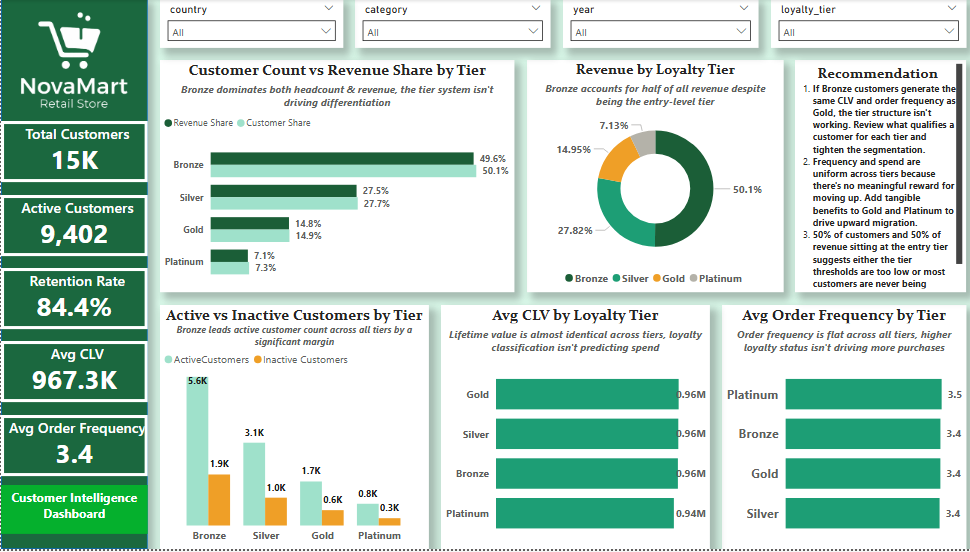

Layout of this report page (visuals, bound fields, positions):
{"tool":"powerbi","page":{"name":"Customer Intelligence","canvas":[1280,720],"ordinal":1},"visuals":[{"type":"shape","box":[0,0,192,720],"z":0},{"type":"donutChart","title":"Revenue by Loyalty Tier","fields":{"Y":["order items.Total Revenue"],"Category":["customers.loyalty_tier"]},"box":[688,80,336,304],"z":1000},{"type":"clusteredBarChart","title":"Customer Count vs Revenue Share by Tier","fields":{"Category":["customers.loyalty_tier"],"Y":["order items.Revenue Share","customers.Customer Share"]},"box":[208,80,464,304],"z":2000},{"type":"clusteredColumnChart","title":"Active vs Inactive Customers by Tier","fields":{"Category":["customers.loyalty_tier"],"Y":["customers.ActiveCustomers","customers.Inactive Customers"]},"box":[208,400,352,320],"z":3000},{"type":"clusteredBarChart","title":"Avg Order Frequency by Tier ","fields":{"Category":["customers.loyalty_tier"],"Y":["customers.Avg Order Frequency"]},"box":[944,400,320,320],"z":4000},{"type":"image","box":[0,0,192,160],"z":5000},{"type":"card","title":"Total Customers","fields":{"Values":["customers.Total Customer"]},"box":[0,160,192,80],"z":6000},{"type":"card","title":"Active Customers","fields":{"Values":["customers.Active Customers"]},"box":[0,256,192,80],"z":7000},{"type":"card","title":"Retention Rate","fields":{"Values":["customers.Retention Rate"]},"box":[0,352,192,80],"z":8000},{"type":"card","title":"Avg CLV","fields":{"Values":["customers.Avg CLV"]},"box":[0,448,192,80],"z":9000},{"type":"textbox","box":[0,636.1,192,64],"z":10000},{"type":"card","title":"Avg Order Frequency","fields":{"Values":["customers.Avg Order Frequency"]},"box":[0,544,192,80],"z":11000},{"type":"barChart","title":"Avg CLV by Loyalty Tier","fields":{"Category":["customers.loyalty_tier"],"Y":["customers.Avg CLV"]},"box":[576,400,352,320],"z":12000},{"type":"textbox","box":[1040,80,224,304],"z":13000},{"type":"slicer","fields":{"Values":["product.category"]},"box":[464,0,256,64],"z":13001},{"type":"slicer","fields":{"Values":["location.country"]},"box":[208,0,240,64],"z":13002},{"type":"slicer","fields":{"Values":["date.year"]},"box":[736,0,256,64],"z":13003},{"type":"slicer","fields":{"Values":["customers.loyalty_tier"]},"box":[1008,0,256,64],"z":13004}]}

Visuals, with their boxes in screenshot pixels (x1, y1, x2, y2), scaled from the page's 1280x720 canvas onto the 970x552 screenshot:
shape: box=[0, 0, 146, 551]
"Revenue by Loyalty Tier" donutChart: box=[521, 61, 776, 294]
"Customer Count vs Revenue Share by Tier" clusteredBarChart: box=[158, 61, 509, 294]
"Active vs Inactive Customers by Tier" clusteredColumnChart: box=[158, 307, 424, 551]
"Avg Order Frequency by Tier " clusteredBarChart: box=[715, 307, 958, 551]
image: box=[0, 0, 146, 123]
"Total Customers" card: box=[0, 123, 146, 184]
"Active Customers" card: box=[0, 196, 146, 258]
"Retention Rate" card: box=[0, 270, 146, 331]
"Avg CLV" card: box=[0, 343, 146, 405]
textbox: box=[0, 488, 146, 537]
"Avg Order Frequency" card: box=[0, 417, 146, 478]
"Avg CLV by Loyalty Tier" barChart: box=[436, 307, 703, 551]
textbox: box=[788, 61, 958, 294]
slicer - product.category: box=[352, 0, 546, 49]
slicer - location.country: box=[158, 0, 340, 49]
slicer - date.year: box=[558, 0, 752, 49]
slicer - customers.loyalty_tier: box=[764, 0, 958, 49]
